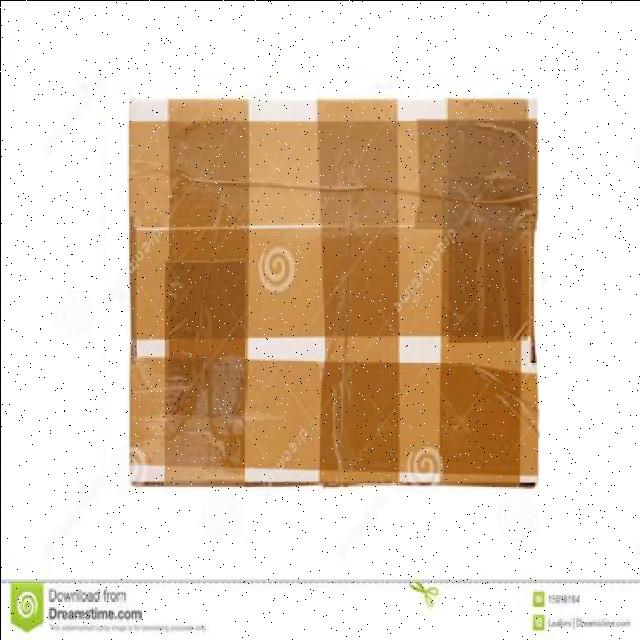defect: (105, 88, 540, 495)
